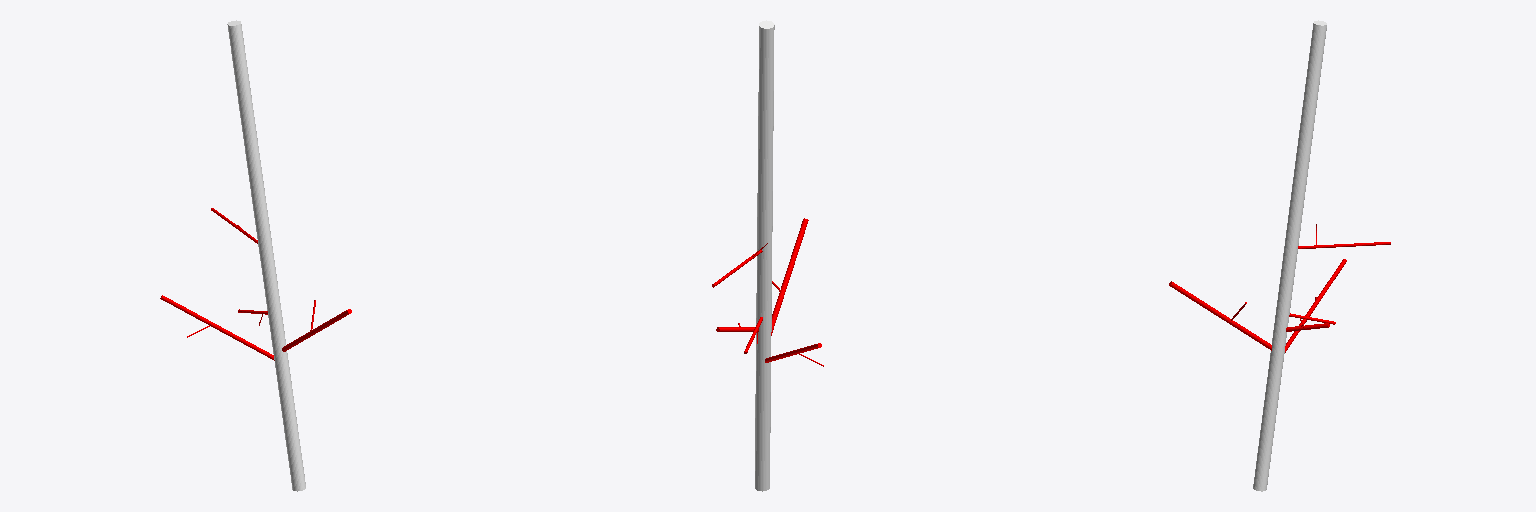
robot.urdf — tree_119.urdf:
<?xml version='1.0' encoding='UTF-8'?>
<robot name="tree_119.urdf">
  <link name="branch_0">
    <inertial>
      <origin xyz="0.0 0.0 0.0" rpy="0.0 -0.0 0.0"/>
      <mass value="0.1"/>
      <inertia ixx="0.001" ixy="0.0" ixz="0.0" iyy="0.001" iyz="0.0" izz="0.001"/>
    </inertial>
    <visual name="branch_0_visual">
      <geometry>
        <cylinder radius="0.16577546957809455" length="11.90507123898124"/>
      </geometry>
      <material name="branch_material"/>
      <origin xyz="-0.47276233203530127 0.7199881966733598 5.889889054588735" rpy="-1.3877787807814457e-17 0.14520924037107832 2.1518148312802747"/>
    </visual>
    <collision name="branch_0_collision">
      <geometry>
        <cylinder radius="0.16577546957809455" length="11.90507123898124"/>
      </geometry>
      <origin xyz="-0.47276233203530127 0.7199881966733598 5.889889054588735" rpy="-1.3877787807814457e-17 0.14520924037107832 2.1518148312802747"/>
    </collision>
  </link>
  <link name="branch_1">
    <inertial>
      <origin xyz="0.0 0.0 0.0" rpy="0.0 -0.0 0.0"/>
      <mass value="0.1"/>
      <inertia ixx="0.001" ixy="0.0" ixz="0.0" iyy="0.001" iyz="0.0" izz="0.001"/>
    </inertial>
    <visual name="branch_1_visual">
      <geometry>
        <cylinder radius="0.037664255689605804" length="1.332525716727067"/>
      </geometry>
      <material name="semantic_material"/>
      <origin xyz="0.0 0.0 0.0" rpy="0.0 -0.0 0.0"/>
    </visual>
    <collision name="branch_1_collision">
      <geometry>
        <cylinder radius="0.037664255689605804" length="1.332525716727067"/>
      </geometry>
      <origin xyz="0.0 0.0 0.0" rpy="0.0 -0.0 0.0"/>
    </collision>
  </link>
  <link name="branch_2">
    <inertial>
      <origin xyz="0.0 0.0 0.0" rpy="0.0 -0.0 0.0"/>
      <mass value="0.1"/>
      <inertia ixx="0.001" ixy="0.0" ixz="0.0" iyy="0.001" iyz="0.0" izz="0.001"/>
    </inertial>
    <visual name="branch_2_visual">
      <geometry>
        <cylinder radius="0.01289060478641047" length="0.38166423774062347"/>
      </geometry>
      <material name="semantic_material"/>
      <origin xyz="0.0 0.0 0.0" rpy="0.0 -0.0 0.0"/>
    </visual>
    <collision name="branch_2_collision">
      <geometry>
        <cylinder radius="0.01289060478641047" length="0.38166423774062347"/>
      </geometry>
      <origin xyz="0.0 0.0 0.0" rpy="0.0 -0.0 0.0"/>
    </collision>
  </link>
  <link name="branch_3">
    <inertial>
      <origin xyz="0.0 0.0 0.0" rpy="0.0 -0.0 0.0"/>
      <mass value="0.1"/>
      <inertia ixx="0.001" ixy="0.0" ixz="0.0" iyy="0.001" iyz="0.0" izz="0.001"/>
    </inertial>
    <visual name="branch_3_visual">
      <geometry>
        <cylinder radius="0.05243221136858241" length="3.269838680240462"/>
      </geometry>
      <material name="semantic_material"/>
      <origin xyz="0.0 0.0 0.0" rpy="0.0 -0.0 0.0"/>
    </visual>
    <collision name="branch_3_collision">
      <geometry>
        <cylinder radius="0.05243221136858241" length="3.269838680240462"/>
      </geometry>
      <origin xyz="0.0 0.0 0.0" rpy="0.0 -0.0 0.0"/>
    </collision>
  </link>
  <link name="branch_4">
    <inertial>
      <origin xyz="0.0 0.0 0.0" rpy="0.0 -0.0 0.0"/>
      <mass value="0.1"/>
      <inertia ixx="0.001" ixy="0.0" ixz="0.0" iyy="0.001" iyz="0.0" izz="0.001"/>
    </inertial>
    <visual name="branch_4_visual">
      <geometry>
        <cylinder radius="0.016277357092220102" length="0.7157992203713756"/>
      </geometry>
      <material name="semantic_material"/>
      <origin xyz="0.0 0.0 0.0" rpy="0.0 -0.0 0.0"/>
    </visual>
    <collision name="branch_4_collision">
      <geometry>
        <cylinder radius="0.016277357092220102" length="0.7157992203713756"/>
      </geometry>
      <origin xyz="0.0 0.0 0.0" rpy="0.0 -0.0 0.0"/>
    </collision>
  </link>
  <link name="branch_5">
    <inertial>
      <origin xyz="0.0 0.0 0.0" rpy="0.0 -0.0 0.0"/>
      <mass value="0.1"/>
      <inertia ixx="0.001" ixy="0.0" ixz="0.0" iyy="0.001" iyz="0.0" izz="0.001"/>
    </inertial>
    <visual name="branch_5_visual">
      <geometry>
        <cylinder radius="0.05455122257362412" length="1.2929462355769525"/>
      </geometry>
      <material name="semantic_material"/>
      <origin xyz="0.0 0.0 0.0" rpy="0.0 -0.0 0.0"/>
    </visual>
    <collision name="branch_5_collision">
      <geometry>
        <cylinder radius="0.05455122257362412" length="1.2929462355769525"/>
      </geometry>
      <origin xyz="0.0 0.0 0.0" rpy="0.0 -0.0 0.0"/>
    </collision>
  </link>
  <link name="branch_6">
    <inertial>
      <origin xyz="0.0 0.0 0.0" rpy="0.0 -0.0 0.0"/>
      <mass value="0.1"/>
      <inertia ixx="0.001" ixy="0.0" ixz="0.0" iyy="0.001" iyz="0.0" izz="0.001"/>
    </inertial>
    <visual name="branch_6_visual">
      <geometry>
        <cylinder radius="0.019150102260887487" length="0.17080072265117394"/>
      </geometry>
      <material name="semantic_material"/>
      <origin xyz="0.0 0.0 0.0" rpy="0.0 -0.0 0.0"/>
    </visual>
    <collision name="branch_6_collision">
      <geometry>
        <cylinder radius="0.019150102260887487" length="0.17080072265117394"/>
      </geometry>
      <origin xyz="0.0 0.0 0.0" rpy="0.0 -0.0 0.0"/>
    </collision>
  </link>
  <link name="branch_7">
    <inertial>
      <origin xyz="0.0 0.0 0.0" rpy="0.0 -0.0 0.0"/>
      <mass value="0.1"/>
      <inertia ixx="0.001" ixy="0.0" ixz="0.0" iyy="0.001" iyz="0.0" izz="0.001"/>
    </inertial>
    <visual name="branch_7_visual">
      <geometry>
        <cylinder radius="0.060875592581606325" length="3.2581005028413497"/>
      </geometry>
      <material name="semantic_material"/>
      <origin xyz="0.0 0.0 0.0" rpy="0.0 -0.0 0.0"/>
    </visual>
    <collision name="branch_7_collision">
      <geometry>
        <cylinder radius="0.060875592581606325" length="3.2581005028413497"/>
      </geometry>
      <origin xyz="0.0 0.0 0.0" rpy="0.0 -0.0 0.0"/>
    </collision>
  </link>
  <link name="branch_8">
    <inertial>
      <origin xyz="0.0 0.0 0.0" rpy="0.0 -0.0 0.0"/>
      <mass value="0.1"/>
      <inertia ixx="0.001" ixy="0.0" ixz="0.0" iyy="0.001" iyz="0.0" izz="0.001"/>
    </inertial>
    <visual name="branch_8_visual">
      <geometry>
        <cylinder radius="0.02258586048512248" length="0.8183426499564388"/>
      </geometry>
      <material name="semantic_material"/>
      <origin xyz="0.0 0.0 0.0" rpy="0.0 -0.0 0.0"/>
    </visual>
    <collision name="branch_8_collision">
      <geometry>
        <cylinder radius="0.02258586048512248" length="0.8183426499564388"/>
      </geometry>
      <origin xyz="0.0 0.0 0.0" rpy="0.0 -0.0 0.0"/>
    </collision>
  </link>
  <link name="branch_9">
    <inertial>
      <origin xyz="0.0 0.0 0.0" rpy="0.0 -0.0 0.0"/>
      <mass value="0.1"/>
      <inertia ixx="0.001" ixy="0.0" ixz="0.0" iyy="0.001" iyz="0.0" izz="0.001"/>
    </inertial>
    <visual name="branch_9_visual">
      <geometry>
        <cylinder radius="0.036644122120478594" length="2.3760871172627267"/>
      </geometry>
      <material name="semantic_material"/>
      <origin xyz="0.0 0.0 0.0" rpy="0.0 -0.0 0.0"/>
    </visual>
    <collision name="branch_9_collision">
      <geometry>
        <cylinder radius="0.036644122120478594" length="2.3760871172627267"/>
      </geometry>
      <origin xyz="0.0 0.0 0.0" rpy="0.0 -0.0 0.0"/>
    </collision>
  </link>
  <link name="branch_10">
    <inertial>
      <origin xyz="0.0 0.0 0.0" rpy="0.0 -0.0 0.0"/>
      <mass value="0.1"/>
      <inertia ixx="0.001" ixy="0.0" ixz="0.0" iyy="0.001" iyz="0.0" izz="0.001"/>
    </inertial>
    <visual name="branch_10_visual">
      <geometry>
        <cylinder radius="0.01" length="0.6023072109474167"/>
      </geometry>
      <material name="semantic_material"/>
      <origin xyz="0.0 0.0 0.0" rpy="0.0 -0.0 0.0"/>
    </visual>
    <collision name="branch_10_collision">
      <geometry>
        <cylinder radius="0.01" length="0.6023072109474167"/>
      </geometry>
      <origin xyz="0.0 0.0 0.0" rpy="0.0 -0.0 0.0"/>
    </collision>
  </link>
  <joint name="joint_0_1" type="fixed">
    <parent link="branch_0"/>
    <child link="branch_1"/>
    <axis xyz="1. 0. 0."/>
    <origin xyz="-0.4860776800808459 1.1675560866150487 4.244328726644915" rpy="-2.961129572053629 1.279656134403168 -1.1772864465295798"/>
  </joint>
  <joint name="joint_0_3" type="fixed">
    <parent link="branch_0"/>
    <child link="branch_3"/>
    <axis xyz="1. 0. 0."/>
    <origin xyz="-1.4283373882209371 1.210573131184606 3.9977963878670355" rpy="0.11981250682533823 1.0595984093505908 2.668541068409413"/>
  </joint>
  <joint name="joint_0_5" type="fixed">
    <parent link="branch_0"/>
    <child link="branch_5"/>
    <axis xyz="1. 0. 0."/>
    <origin xyz="-0.08425072503299802 1.0648900199905693 4.187321728933593" rpy="-0.42207050247636524 1.2664088525410513 0.7386949223547917"/>
  </joint>
  <joint name="joint_0_7" type="fixed">
    <parent link="branch_0"/>
    <child link="branch_7"/>
    <axis xyz="1. 0. 0."/>
    <origin xyz="-0.06819710915272062 -0.8506672833401777 4.463312070805574" rpy="0.08788314877312035 0.9131760278247584 -1.2963493318525707"/>
  </joint>
  <joint name="joint_0_9" type="fixed">
    <parent link="branch_0"/>
    <child link="branch_9"/>
    <axis xyz="1. 0. 0."/>
    <origin xyz="-0.5364327198078487 1.930384573950245 6.130102992307681" rpy="-1.1225898256056164 1.4870305321625843 0.48714718050463024"/>
  </joint>
  <joint name="joint_1_2" type="fixed">
    <parent link="branch_0"/>
    <child link="branch_2"/>
    <axis xyz="1. 0. 0."/>
    <origin xyz="-0.4644344320663878 0.9996811617842244 4.132054649958953" rpy="3.056820431353411 0.3263190244511244 -1.4164156262840477"/>
  </joint>
  <joint name="joint_3_4" type="fixed">
    <parent link="branch_0"/>
    <child link="branch_4"/>
    <axis xyz="1. 0. 0."/>
    <origin xyz="-1.9499681733727905 1.3335966047854237 4.031804585910271" rpy="1.9445884019851 0.8752295994295262 -1.2828728581445028"/>
  </joint>
  <joint name="joint_5_6" type="fixed">
    <parent link="branch_0"/>
    <child link="branch_6"/>
    <axis xyz="1. 0. 0."/>
    <origin xyz="-0.032154839759198674 1.0248740502143607 4.240520322807264" rpy="-0.8860722067891825 0.3705398067922169 -2.0792440489588686"/>
  </joint>
  <joint name="joint_7_8" type="fixed">
    <parent link="branch_0"/>
    <child link="branch_8"/>
    <axis xyz="1. 0. 0."/>
    <origin xyz="0.07724812623425852 -0.5144488183216605 4.669292525586056" rpy="0.4612461740462738 0.501944005070474 1.6378095377307644"/>
  </joint>
  <joint name="joint_9_10" type="fixed">
    <parent link="branch_0"/>
    <child link="branch_10"/>
    <axis xyz="1. 0. 0."/>
    <origin xyz="-0.7162242851373597 1.347930154941009 6.330417037081266" rpy="0.7428537055860986 -0.023018580109181216 -1.5849274923785237"/>
  </joint>
  <material name="branch_material">
    <color rgba="1. 1. 1. 1."/>
  </material>
  <material name="semantic_material">
    <color rgba="1. 0. 0. 1."/>
  </material>
</robot>

--- Facts derived from the render (not from the file) ---
Views: 3 orthographic renders of the robot side by side, from view 1: azimuth 30°, elevation 25°; view 2: azimuth 150°, elevation 25°; view 3: azimuth 270°, elevation 25°.
Robot: tree_119.urdf — 11 links, 10 joints (10 fixed); root link branch_0; default pose: all joints at 0.
Visible links, largest first — view 1: branch_0, branch_3; view 2: branch_0, branch_7; view 3: branch_0, branch_7.
Boxes of the visible links, x1,y1,x2,y2 form: branch_0: [227, 20, 305, 491]; branch_3: [160, 295, 274, 360]; branch_0: [755, 20, 774, 491]; branch_7: [771, 218, 808, 335]; branch_0: [1253, 20, 1326, 491]; branch_7: [1169, 281, 1271, 350].
Size in the robot's own frame: 2.9 by 5.28 by 11.83 metres.
Geometry: primitives only (box / cylinder / sphere), no mesh files.
